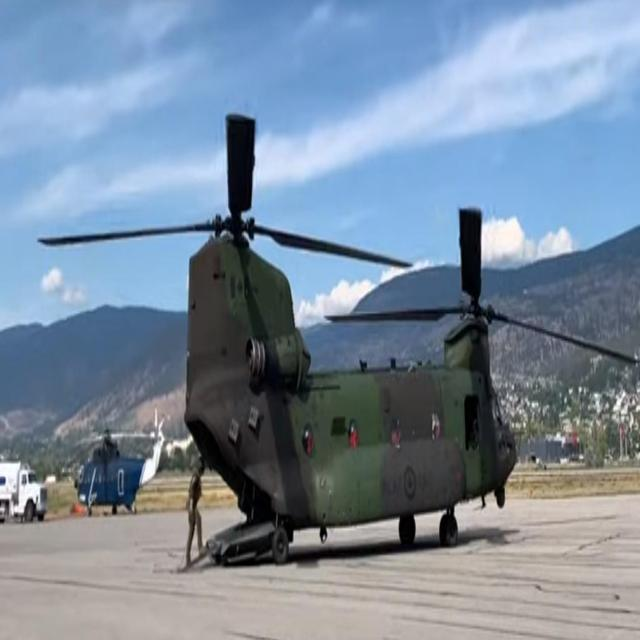Helicopter: (171, 176, 540, 544)
